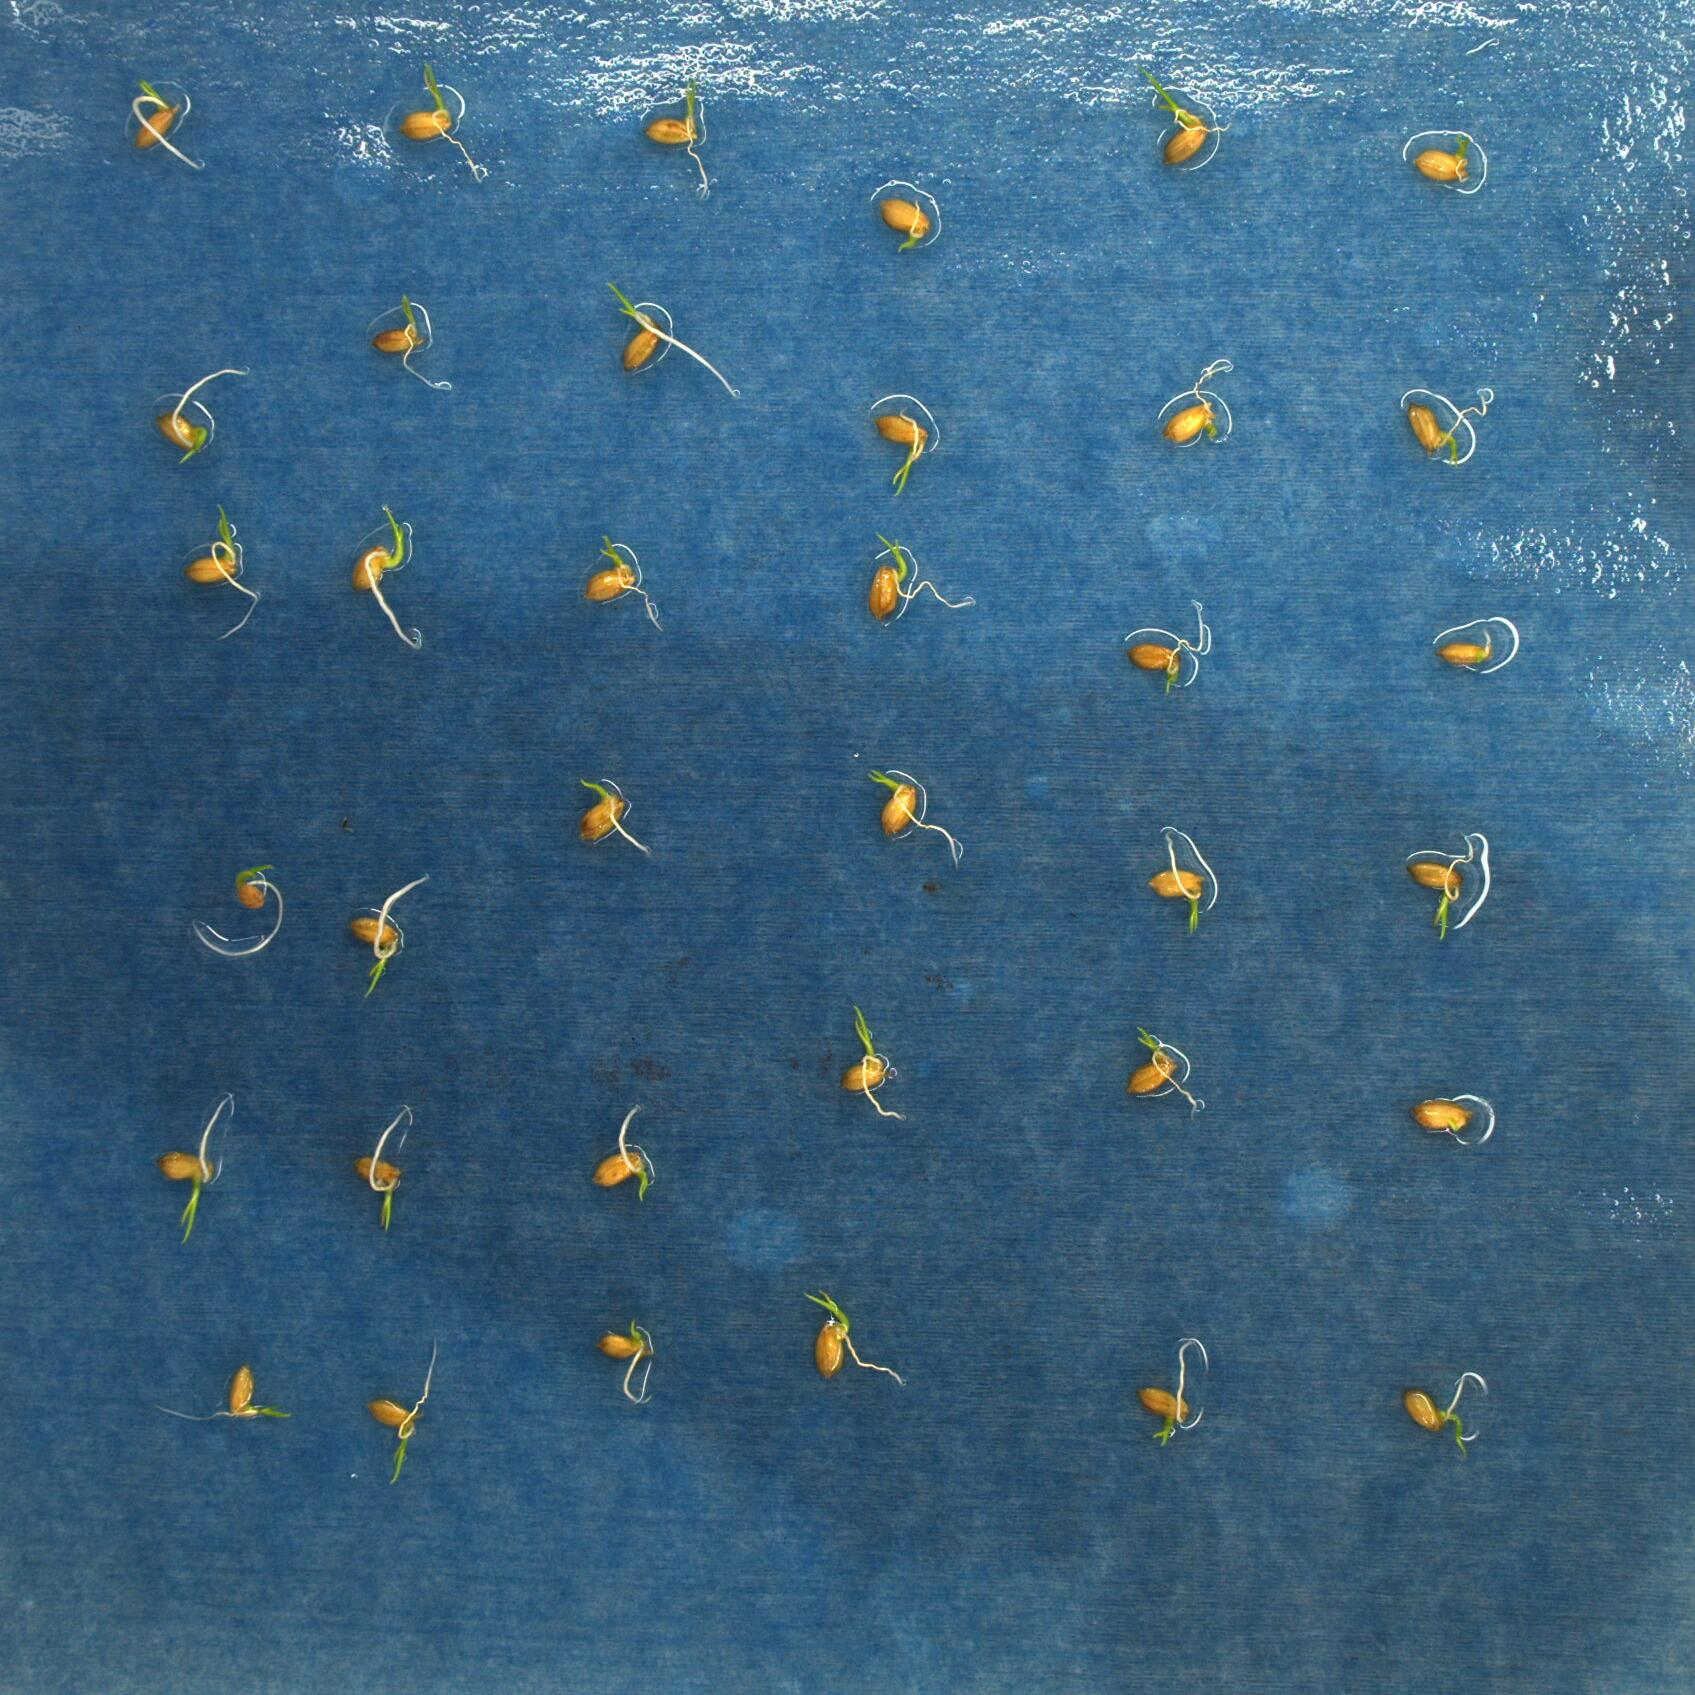not sprout: (360, 284, 452, 386), (1156, 354, 1239, 453), (1411, 118, 1485, 189), (875, 168, 947, 236)
sprout: (587, 276, 744, 410), (334, 484, 433, 663), (154, 328, 261, 473), (570, 1091, 692, 1218), (149, 1094, 245, 1246), (376, 62, 483, 199), (360, 1332, 445, 1503), (337, 869, 438, 1007), (331, 1101, 432, 1236), (846, 730, 947, 860), (1125, 1329, 1226, 1458), (860, 503, 973, 615), (1133, 61, 1243, 174), (782, 1288, 906, 1388), (629, 88, 740, 192), (577, 522, 674, 640), (1138, 813, 1225, 944), (1391, 376, 1507, 472), (186, 504, 262, 650), (1394, 1336, 1487, 1454), (829, 1000, 917, 1122), (1400, 820, 1484, 945), (123, 71, 217, 182), (1122, 594, 1218, 698), (863, 383, 944, 497), (587, 1310, 667, 1423), (163, 1361, 301, 1423), (1118, 1007, 1200, 1108), (1403, 1076, 1496, 1155), (567, 771, 649, 858), (1437, 616, 1509, 681), (222, 861, 284, 920)
